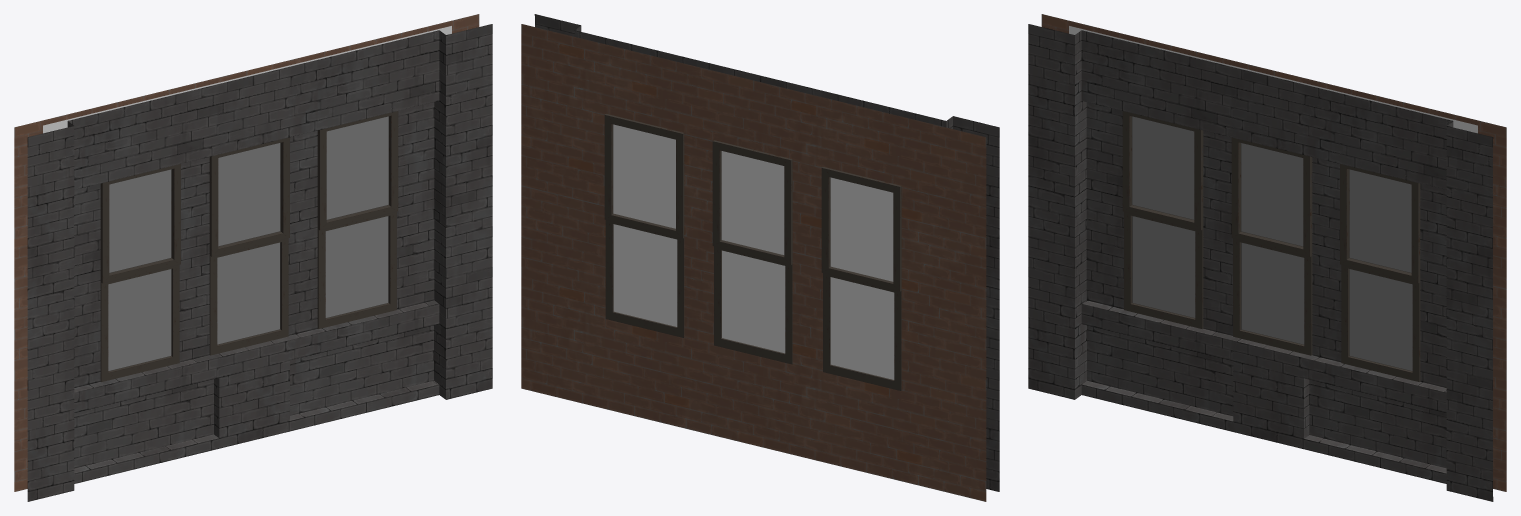
Rendered from WornBrick_WindowTriple.gltf.
3 views of the same model, side by side, from view 1: azimuth 30°, elevation 25°; view 2: azimuth 150°, elevation 25°; view 3: azimuth 330°, elevation 25° (orthographic).
Visible parts, largest first — view 1: WornBrick_WindowTriple; view 2: WornBrick_WindowTriple; view 3: WornBrick_WindowTriple.
Boxes of the visible parts, x1,y1,x2,y2 form: WornBrick_WindowTriple: (14, 14, 492, 501); WornBrick_WindowTriple: (521, 14, 999, 501); WornBrick_WindowTriple: (1028, 14, 1506, 501).
Bounding box in the file's own units: 4 × 3 × 0.2222.
5 materials, 3 textured.
